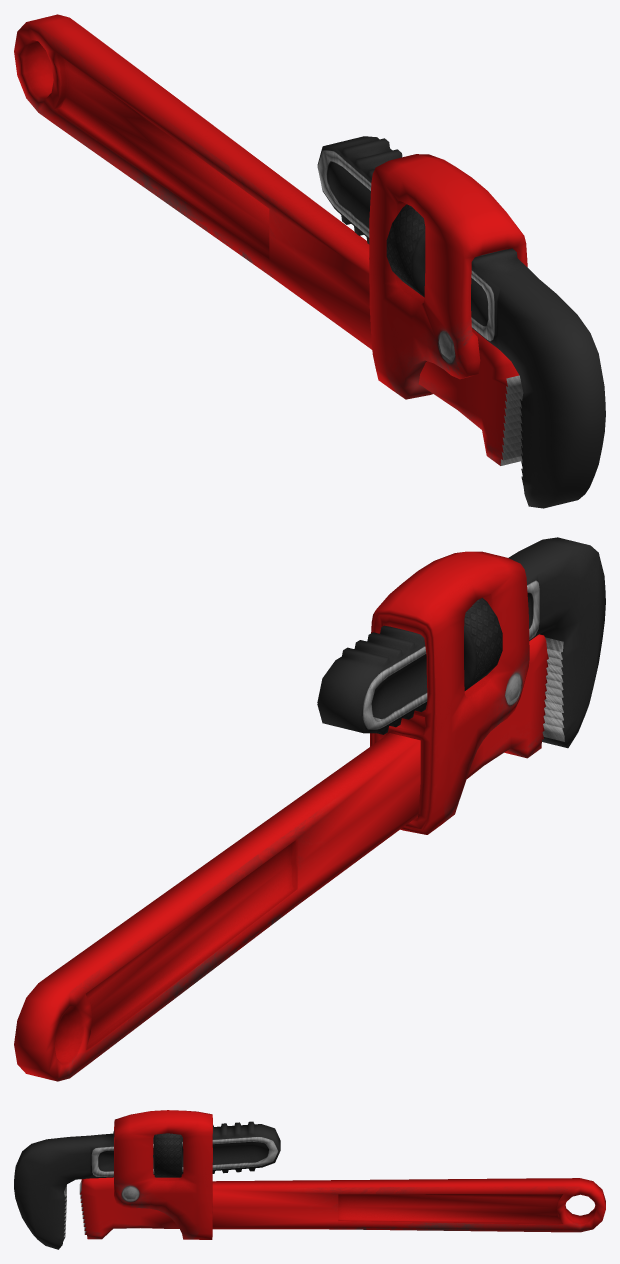
The model's file is PipeWrench.fbx.
3 renders of one model, top to bottom at view 1: azimuth 30°, elevation 25°; view 2: azimuth 150°, elevation 25°; view 3: azimuth 270°, elevation 25°, orthographic. The views are drawn at different scales.
Parts seen in each view (by area): view 1: Wrench; view 2: Wrench; view 3: Wrench.
Boxes of the visible parts, x1,y1,x2,y2 form: Wrench: (14, 14, 605, 508); Wrench: (14, 537, 605, 1081); Wrench: (14, 1110, 605, 1249).
Size of the model in its own units: 92.54 by 243 by 996.
